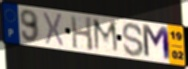9: (19, 9, 42, 45)
H: (69, 15, 95, 53)
M: (141, 23, 173, 63), (91, 17, 121, 56)
S: (121, 21, 145, 58)
X: (42, 11, 65, 49)
